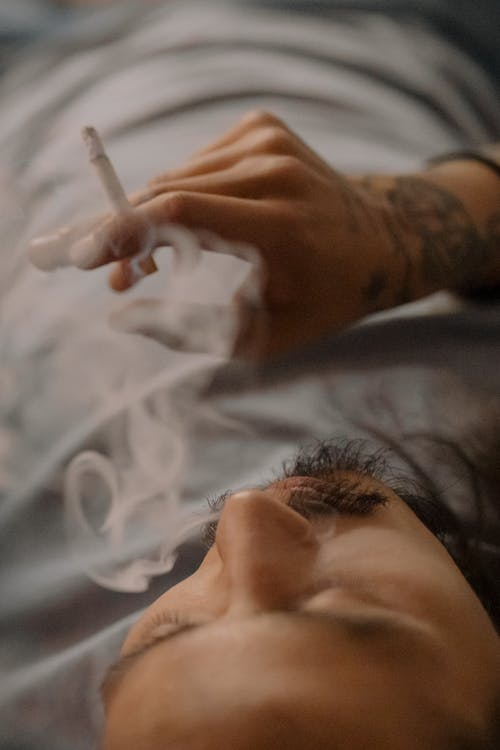cigarette: (80, 123, 158, 283)
